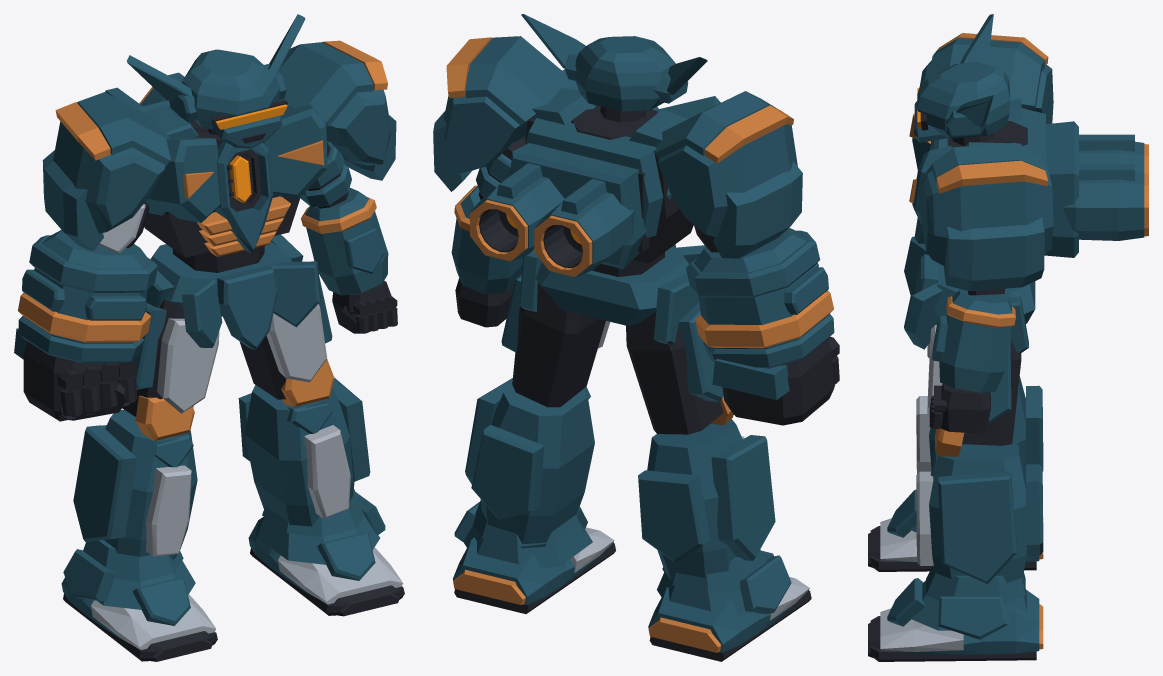
Rendered from Tidebreaker_Modules_v3.fbx.
3 renders of one model, left to right at view 1: azimuth 30°, elevation 25°; view 2: azimuth 150°, elevation 25°; view 3: azimuth 270°, elevation 25°, orthographic. The views are drawn at different scales.
Visible parts, largest first — view 1: Chest_Teal, RightShin_Teal, LeftShin_Teal, RightGauntlet_Teal, Pelvis_Teal, Head_Teal, RightShin_Steel, LeftShin_Steel, RightGauntlet_Charcoal, Chest_Copper, LeftForearm_Teal, RightThigh_Steel (+17 smaller); view 2: Chest_Teal, RightShin_Teal, LeftShin_Teal, RightGauntlet_Teal, Pelvis_Teal, Head_Teal, LeftThigh_Charcoal, Chest_Copper, Chest_Charcoal, RightThigh_Charcoal, RightGauntlet_Charcoal, RightGauntlet_Copper (+12 smaller); view 3: Chest_Teal, LeftShin_Teal, Head_Teal, LeftForearm_Teal, Pelvis_Teal, LeftShin_Steel, Chest_Copper, RightShin_Teal, LeftForearm_Charcoal, RightShin_Steel, LeftShin_Charcoal, LeftThigh_Charcoal (+6 smaller).
Part boxes in pixels (<box>): Chest_Teal: <box>42,42,396,253</box>; RightShin_Teal: <box>61,409,197,642</box>; LeftShin_Teal: <box>238,377,385,597</box>; RightGauntlet_Teal: <box>14,230,157,363</box>; Pelvis_Teal: <box>146,234,321,350</box>; Head_Teal: <box>127,14,305,148</box>; RightShin_Steel: <box>91,465,215,649</box>; LeftShin_Steel: <box>278,425,402,604</box>; RightGauntlet_Charcoal: <box>23,341,137,421</box>; Chest_Copper: <box>55,40,387,256</box>; LeftForearm_Teal: <box>305,187,388,295</box>; RightThigh_Steel: <box>157,318,219,413</box>; Chest_Teal: <box>433,36,802,276</box>; RightShin_Teal: <box>638,419,794,652</box>; LeftShin_Teal: <box>453,378,599,605</box>; RightGauntlet_Teal: <box>686,227,834,400</box>; Pelvis_Teal: <box>519,244,705,344</box>; Head_Teal: <box>521,14,707,111</box>; LeftThigh_Charcoal: <box>512,282,605,407</box>; Chest_Copper: <box>446,37,793,276</box>; Chest_Charcoal: <box>479,105,693,267</box>; RightThigh_Charcoal: <box>626,312,723,434</box>; RightGauntlet_Charcoal: <box>722,336,839,425</box>; RightGauntlet_Copper: <box>695,290,833,348</box>; Chest_Teal: <box>912,38,1144,291</box>; LeftShin_Teal: <box>887,443,1043,654</box>; Head_Teal: <box>914,14,1009,142</box>; LeftForearm_Teal: <box>932,290,1012,392</box>; Pelvis_Teal: <box>904,236,1035,353</box>; LeftShin_Steel: <box>880,471,963,651</box>; Chest_Copper: <box>909,33,1148,236</box>; RightShin_Teal: <box>887,376,1043,563</box>; LeftForearm_Charcoal: <box>929,383,990,433</box>; RightShin_Steel: <box>880,396,931,561</box>; LeftShin_Charcoal: <box>868,616,1036,661</box>; LeftThigh_Charcoal: <box>962,339,1021,445</box>.
Size of the model in its own units: 14.83 by 22.31 by 10.42.
